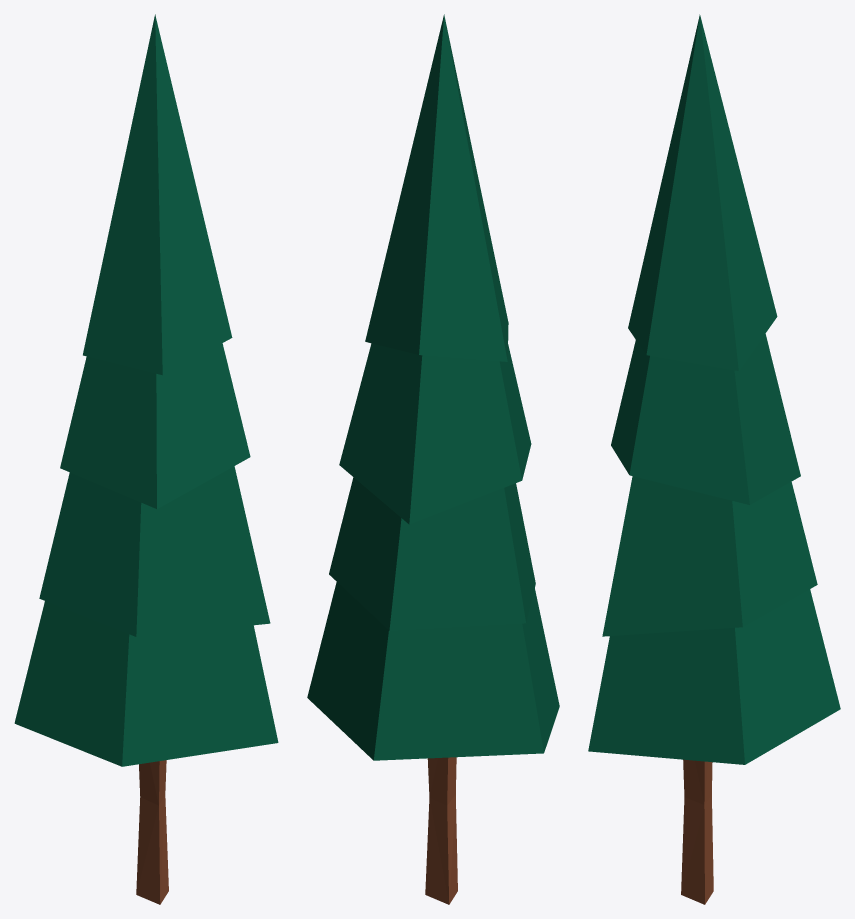
Rendered from world_1_tree_1.dae.
3 renders of one model, left to right at view 1: azimuth 30°, elevation 25°; view 2: azimuth 150°, elevation 25°; view 3: azimuth 270°, elevation 25°, orthographic.
Visible parts, largest first — view 1: world_1_tree_1_leaves, world_1_tree_1_base; view 2: world_1_tree_1_leaves, world_1_tree_1_base; view 3: world_1_tree_1_leaves, world_1_tree_1_base.
Part boxes in pixels (bbox=[...]): world_1_tree_1_leaves: bbox=[14, 14, 278, 766]; world_1_tree_1_base: bbox=[136, 760, 168, 904]; world_1_tree_1_leaves: bbox=[307, 14, 559, 760]; world_1_tree_1_base: bbox=[425, 757, 457, 904]; world_1_tree_1_leaves: bbox=[588, 14, 840, 764]; world_1_tree_1_base: bbox=[681, 759, 713, 904].
Bounding box in the file's own units: 1.24 × 1.15 × 4.44.
